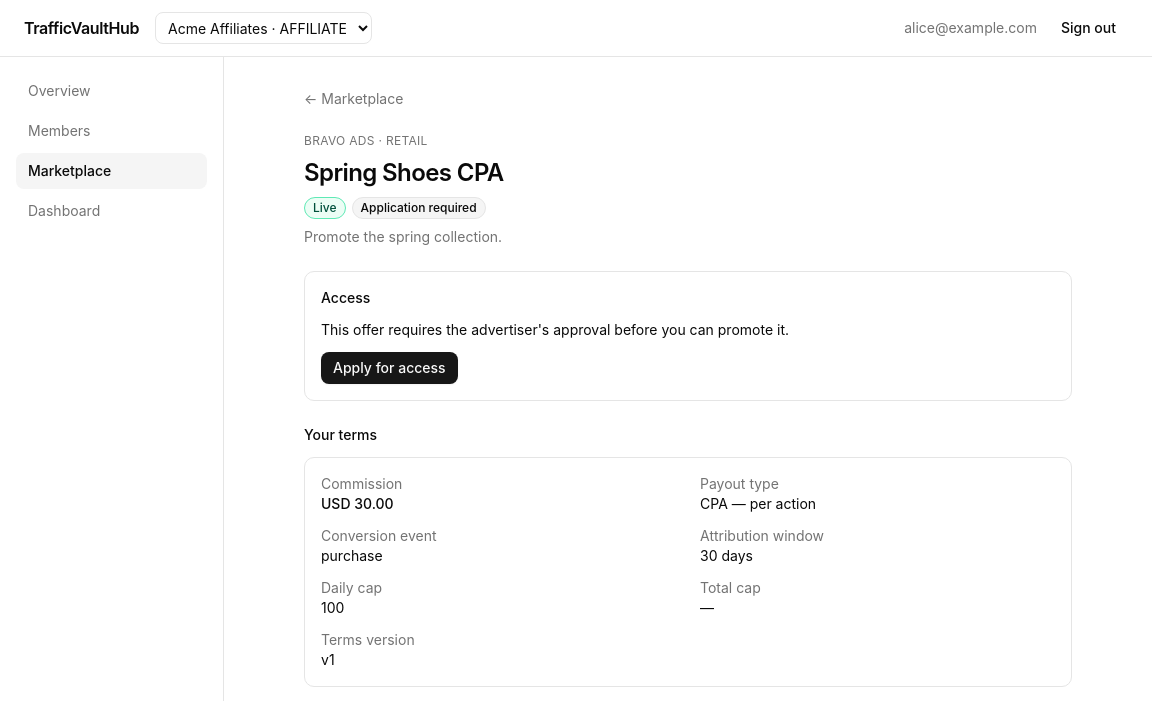
Test case: affiliate marketplace › /app/:orgId/marketplace/:offerId › APPLICATION_REQUIRED with no grant (can_apply): Apply posts to /apply and the panel flips to pending
Expected: the text "This offer requires the advertiser's approval before you can promote it." is shown, left=321, top=321, right=789, bottom=338
Click the button "Apply for access".
click(389, 368)  # box left=321, top=352, right=458, bottom=384
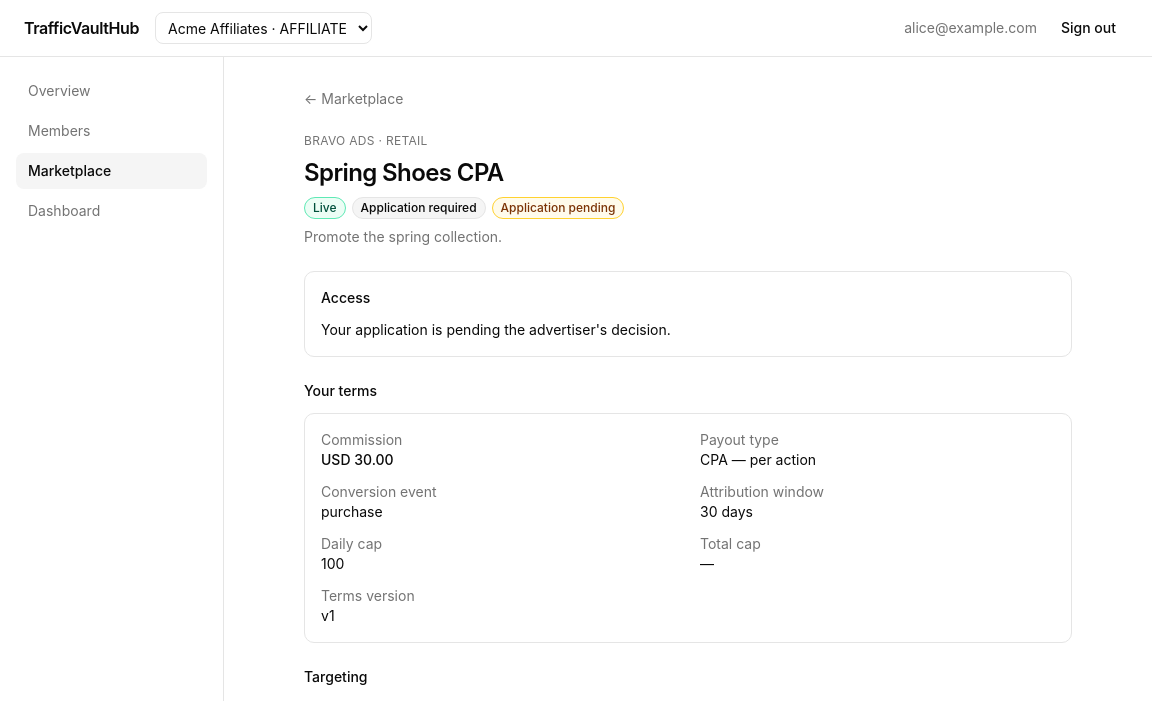
Expected: the text "Your application is pending the advertiser's decision." is shown, left=321, top=321, right=671, bottom=338
Expected: the button "Apply for access" is gone
Expected: the text "Application pending" is shown, left=492, top=197, right=624, bottom=219
